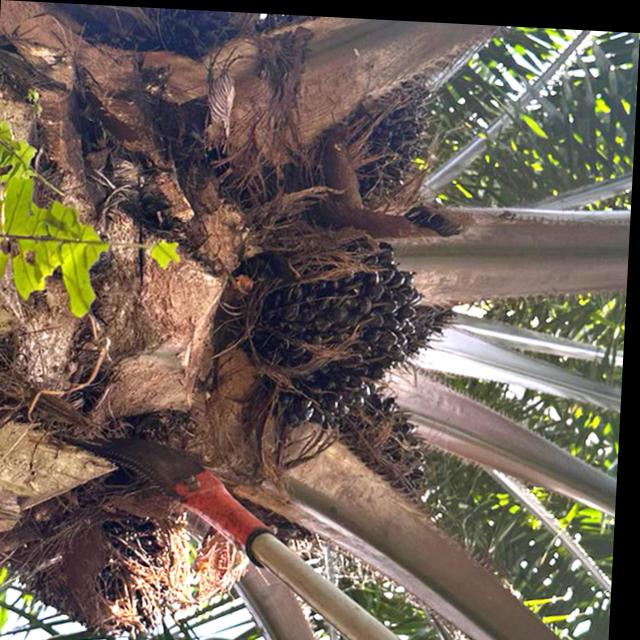unripe: (235, 227, 433, 433)
